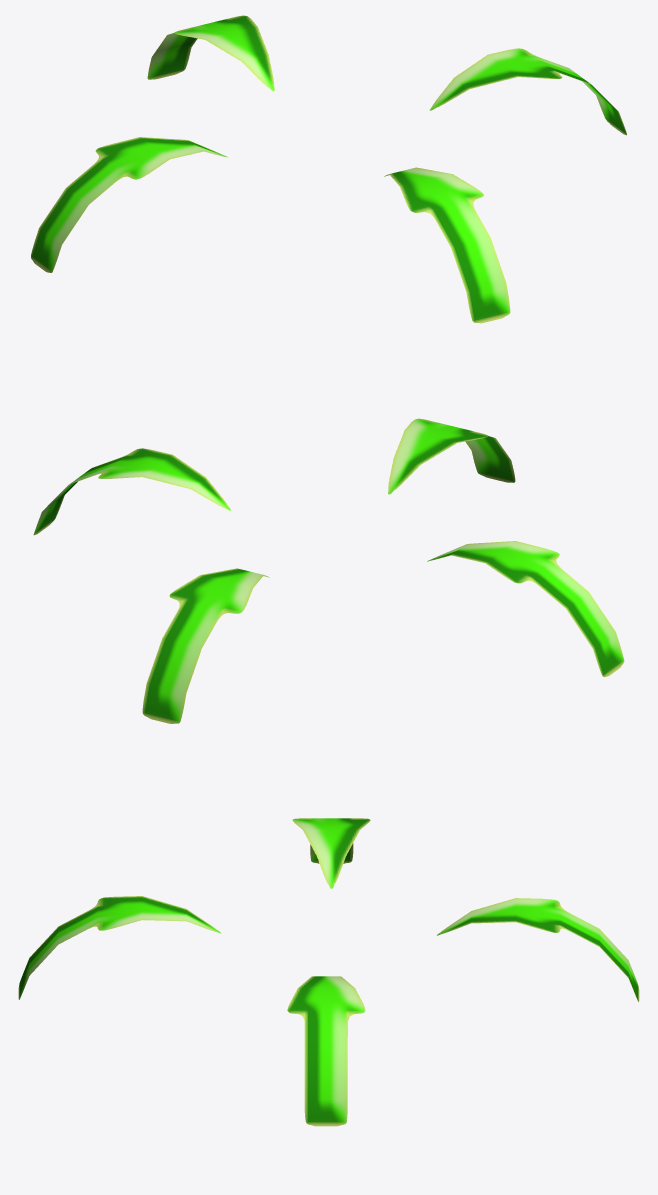
The model's file is Click.FBX.
3 renders of one model, top to bottom at view 1: azimuth 30°, elevation 25°; view 2: azimuth 150°, elevation 25°; view 3: azimuth 270°, elevation 25°, orthographic. The views are drawn at different scales.
Visible parts, largest first — view 1: Click2, Click3, Click4, Click; view 2: Click4, Click3, Click2, Click; view 3: Click, Click2, Click4, Click3.
Boxes of the visible parts, box(x1,y1,x2,y2) form: Click2: box(384, 167, 510, 323); Click3: box(31, 137, 227, 272); Click4: box(147, 15, 274, 91); Click: box(429, 48, 626, 135); Click4: box(142, 568, 269, 723); Click3: box(427, 541, 624, 677); Click2: box(388, 418, 515, 494); Click: box(33, 448, 230, 535); Click: box(287, 976, 365, 1126); Click2: box(18, 896, 221, 999); Click4: box(437, 898, 639, 1001); Click3: box(292, 818, 370, 888).
Size of the model in its own units: 53.94 by 13.07 by 53.94.
